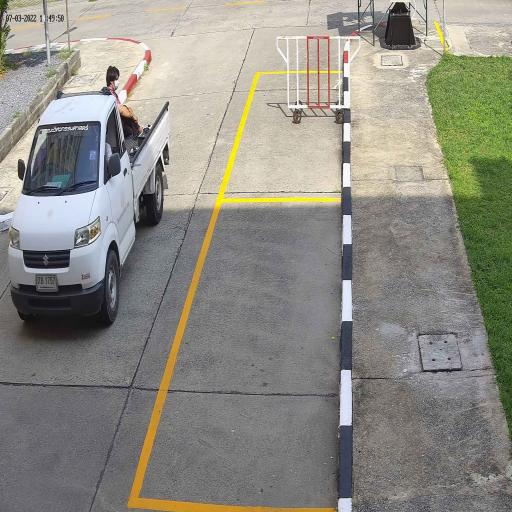car: (8, 94, 170, 325)
